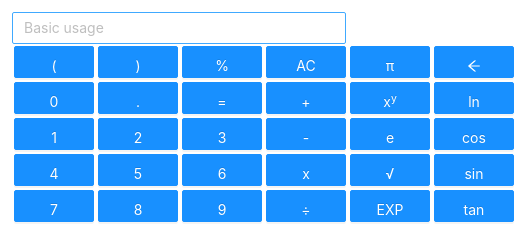
Test case: Basic Calculator Test › Calculator Calculate function › PI Functionality › Simple pi calculation
Click the button named "one-button": (54, 134) [14, 118, 94, 150]
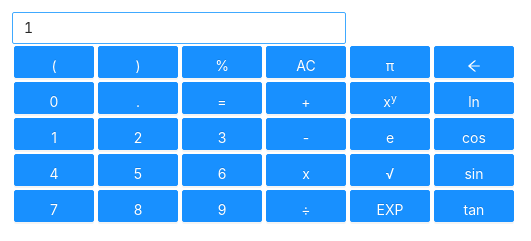
Click the button named "plus-button": (306, 98) [266, 82, 346, 114]
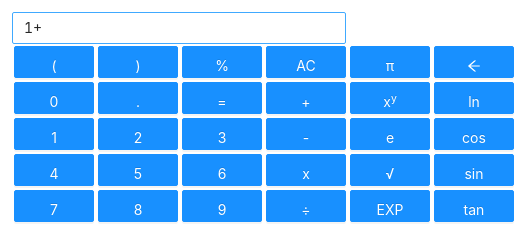
Click the button named "pi-button": (390, 62) [350, 46, 430, 78]
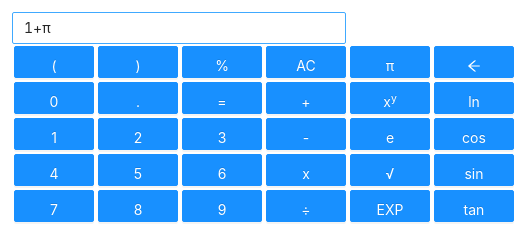
Click the button named "equals-button": (222, 98) [182, 82, 262, 114]
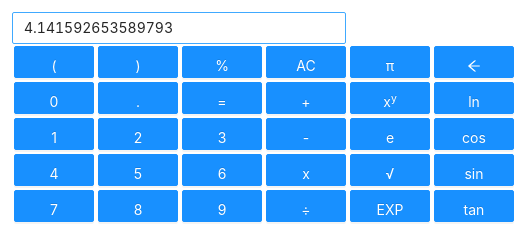
expect the field named "basic-calculator-display" holds "4.141592653589793": met, box [12, 12, 346, 44]
